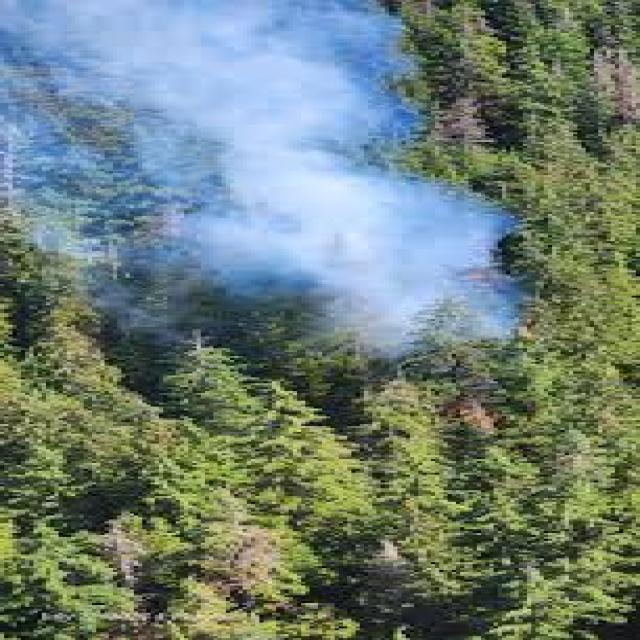Smoke: (0, 3, 589, 371)
